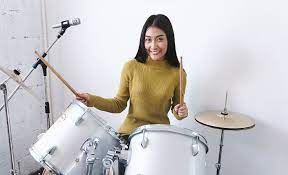person: (82, 11, 197, 128)
